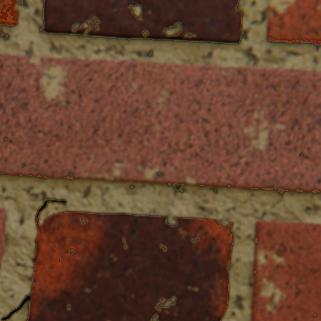brick: (0, 55, 320, 193), (28, 211, 231, 320), (43, 0, 242, 44), (250, 221, 320, 320), (265, 0, 320, 44), (0, 0, 18, 26), (0, 208, 5, 267)
crack: (34, 199, 66, 227), (1, 296, 29, 320)
